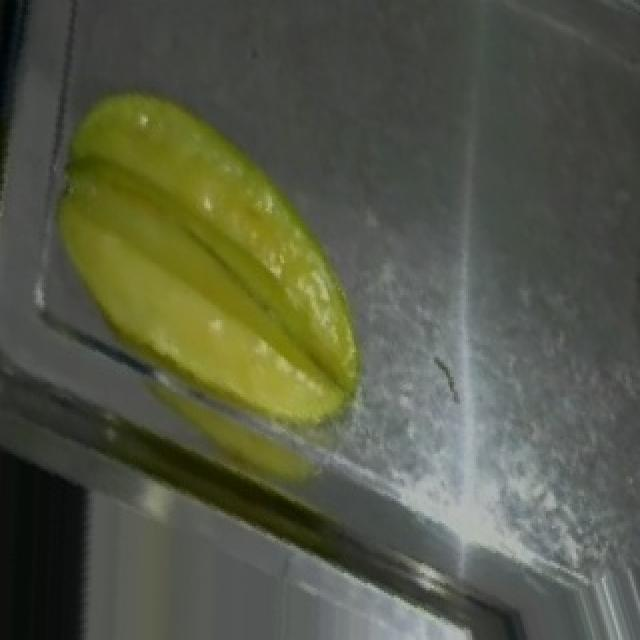fruit: (20, 47, 404, 439)
